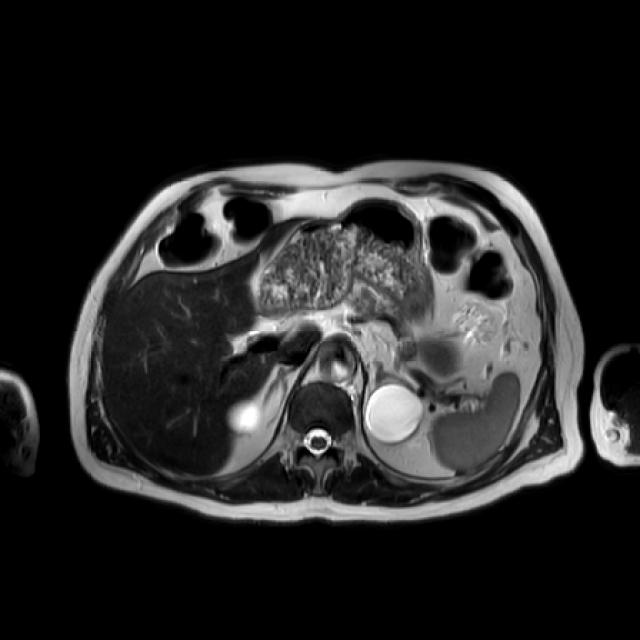sag: (228, 400, 263, 436)
sol: (363, 382, 425, 445)
